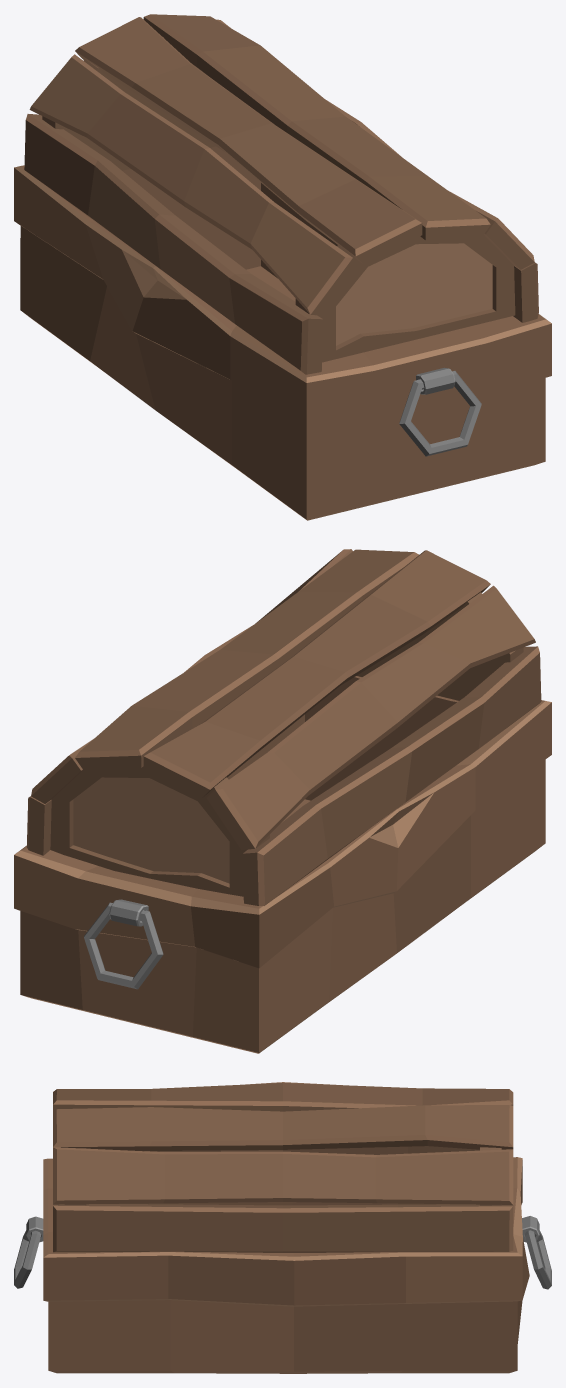
Rendered from Chest.fbx.
The picture shows the model from 3 angles, top to bottom: view 1: azimuth 30°, elevation 25°; view 2: azimuth 150°, elevation 25°; view 3: azimuth 270°, elevation 25°; orthographic projection. The views are drawn at different scales.
Visible parts, largest first — view 1: Lid, Chest; view 2: Lid, Chest; view 3: Lid, Chest.
Boxes of the visible parts, bbox=[...] form: Lid: bbox=[24, 14, 538, 374]; Chest: bbox=[14, 146, 551, 520]; Lid: bbox=[27, 549, 541, 905]; Chest: bbox=[14, 676, 551, 1053]; Lid: bbox=[53, 1082, 513, 1252]; Chest: bbox=[14, 1157, 551, 1373].
Bounding box in the file's own units: 101 × 101 × 219.
